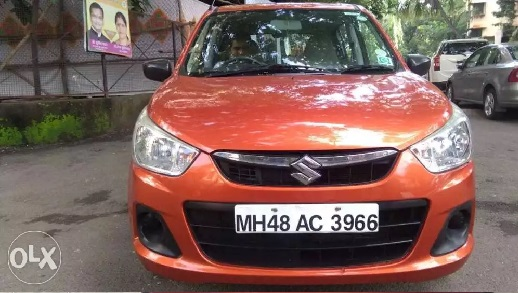licenseplate: (233, 201, 381, 236)
